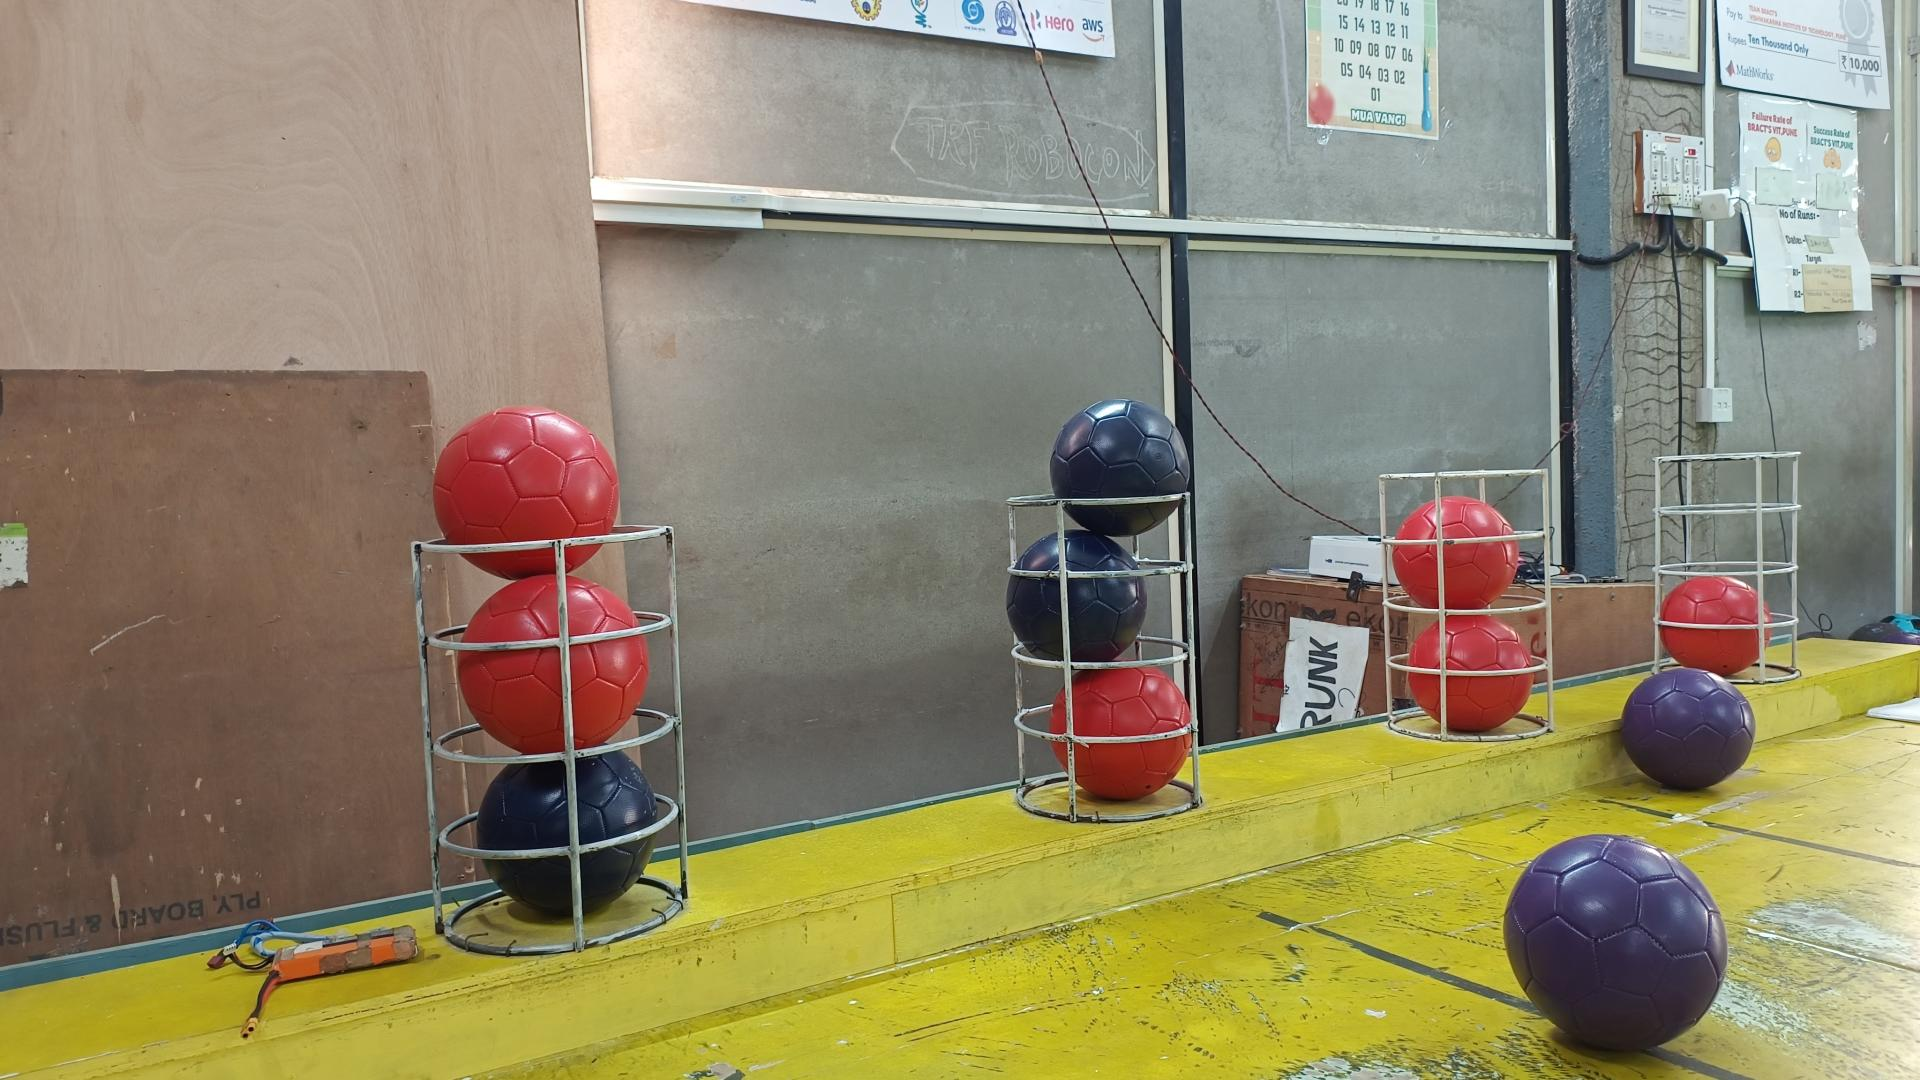dhoka: (479, 754, 658, 915), (1047, 398, 1191, 537), (1004, 526, 1146, 662)
laale: (459, 574, 646, 754), (429, 407, 612, 579), (1047, 665, 1193, 800), (1406, 611, 1534, 731), (1390, 496, 1520, 612), (1658, 576, 1775, 678)
